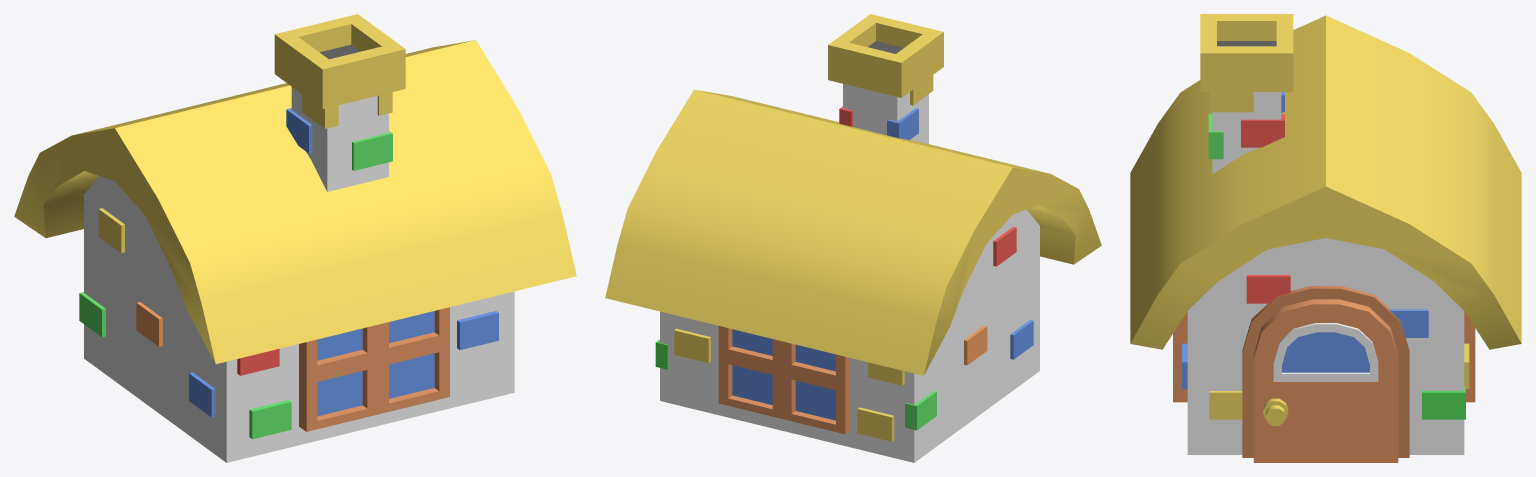
The model's file is House_C.fbx.
3 views of the same model, side by side, from view 1: azimuth 30°, elevation 25°; view 2: azimuth 150°, elevation 25°; view 3: azimuth 270°, elevation 25° (orthographic). The views are drawn at different scales.
Visible parts, largest first — view 1: House_C; view 2: House_C; view 3: House_C.
Boxes of the visible parts, left/top/right/bottom form: House_C: left=14, top=14, right=576, bottom=462; House_C: left=605, top=14, right=1101, bottom=462; House_C: left=1130, top=14, right=1521, bottom=462.
Bounding box in the file's own units: 367 × 354 × 355.
